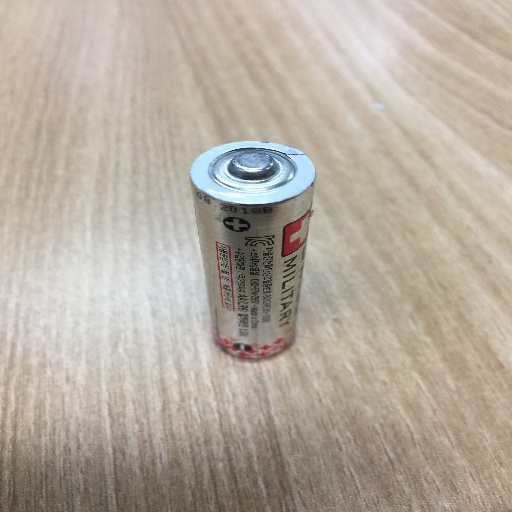Battery_0: (177, 127, 327, 371)
